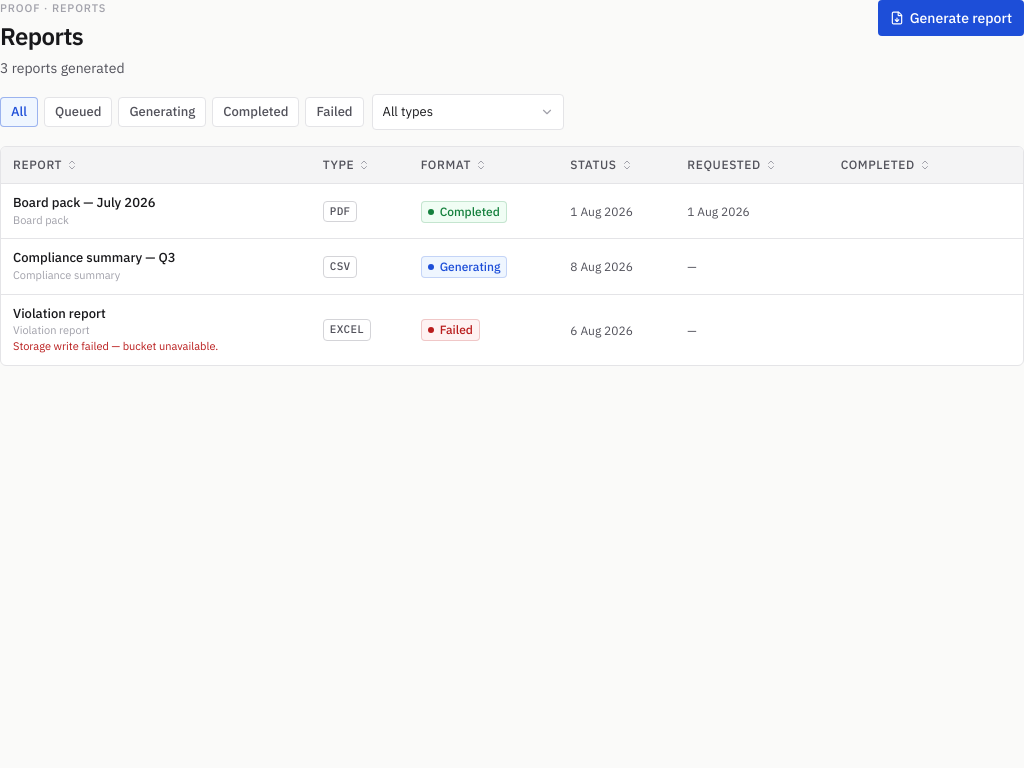
Test: ReportsView (§9.11) › generates a report from the modal and it appears as queued
expect the table is shown: met, box top-left (1, 147), bottom-right (1023, 364)
Click the button "Generate report" at point(951, 18), box top-left (878, 0), bottom-right (1023, 36)
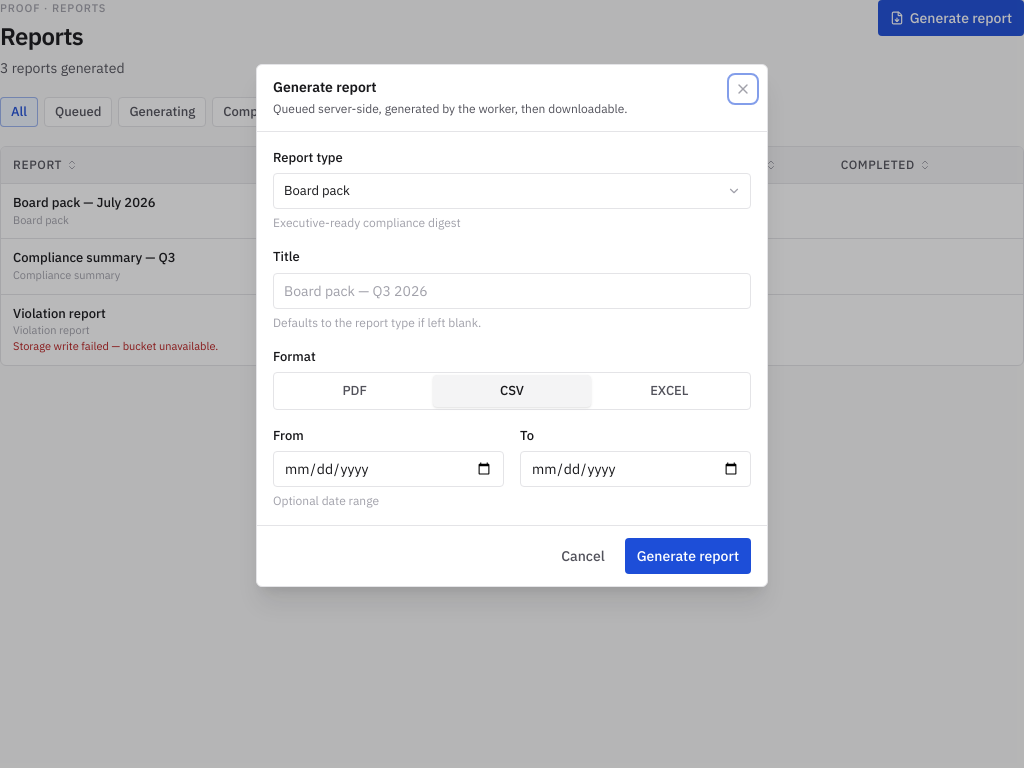
Select "Consent report" in the dropdown labelled "Report type" at point(512, 191), box top-left (273, 173), bottom-right (751, 209)
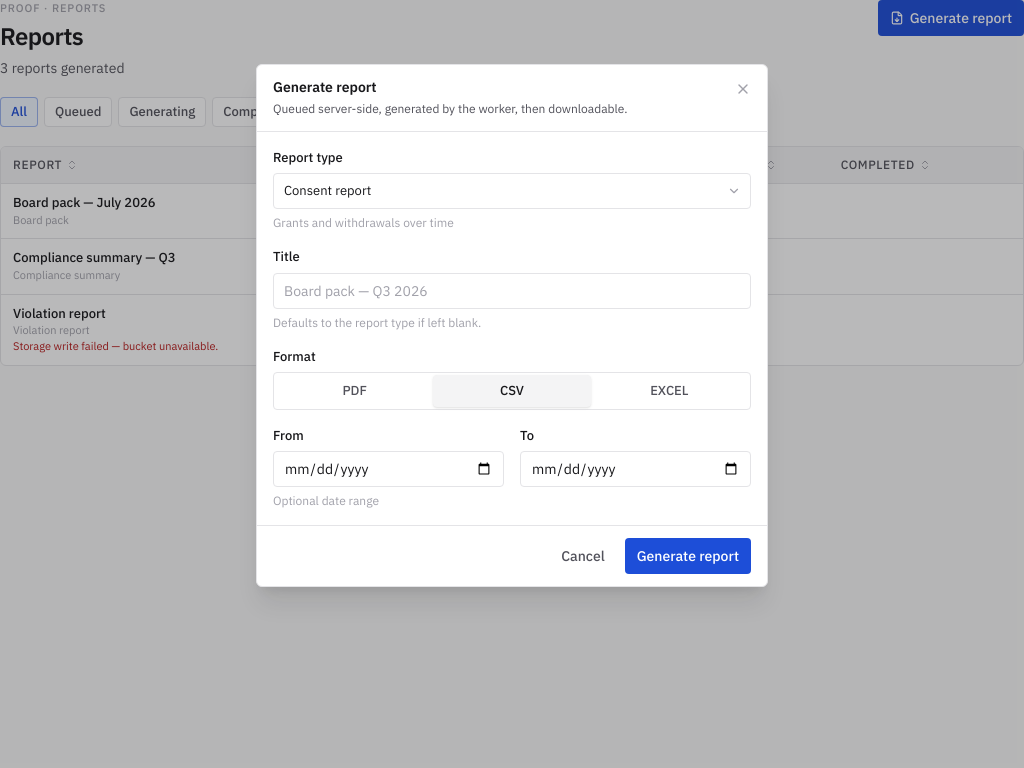
Type "Consent — August" into the field labelled "Title" at point(512, 290), box top-left (273, 272), bottom-right (751, 308)
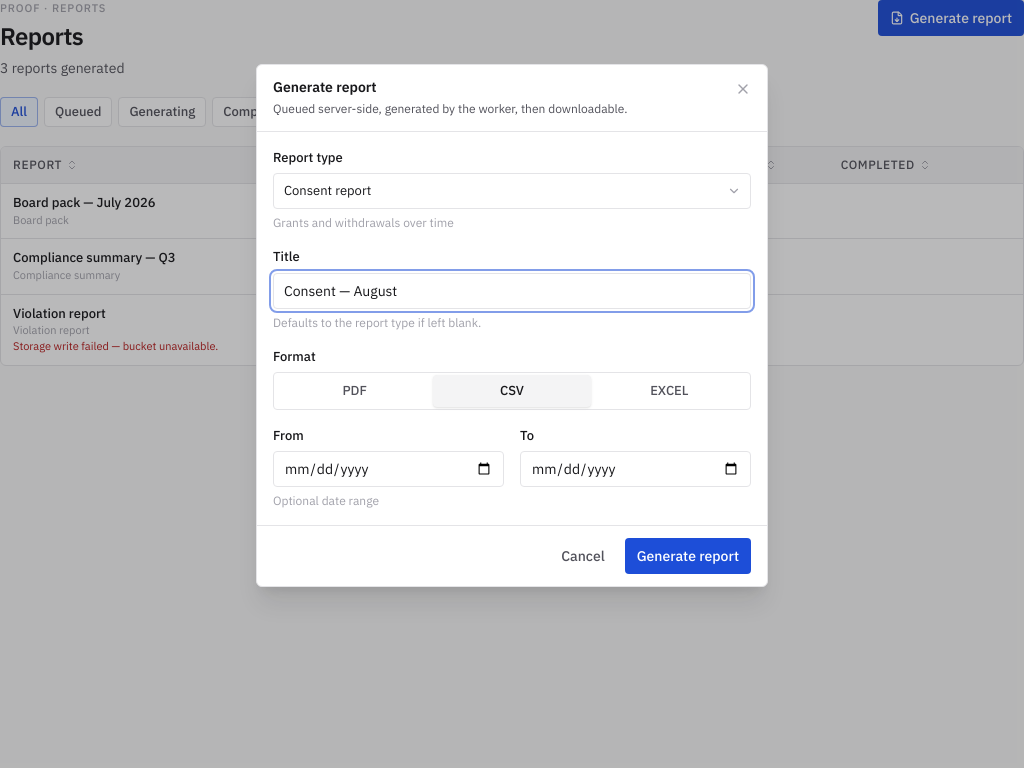
Click the button "Generate report" at point(688, 556), box top-left (625, 538), bottom-right (751, 574)
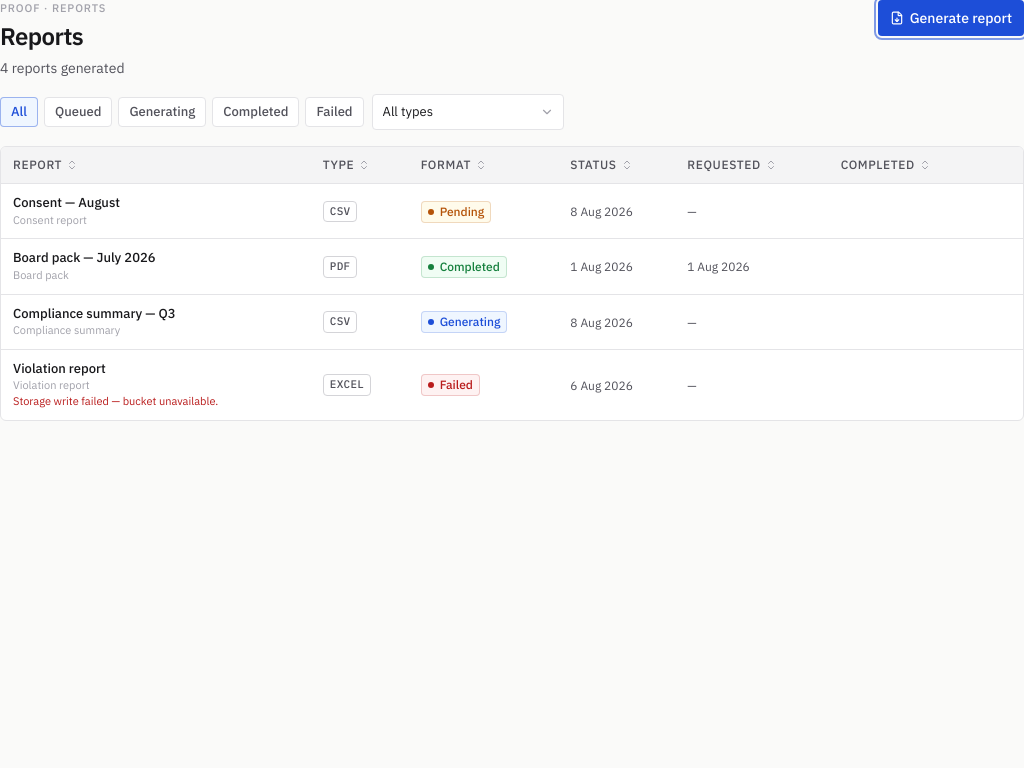
expect the text "Consent — August" is shown: met, box top-left (13, 194), bottom-right (120, 211)
expect the text "Pending" is shown: met, box top-left (440, 204), bottom-right (484, 220)
